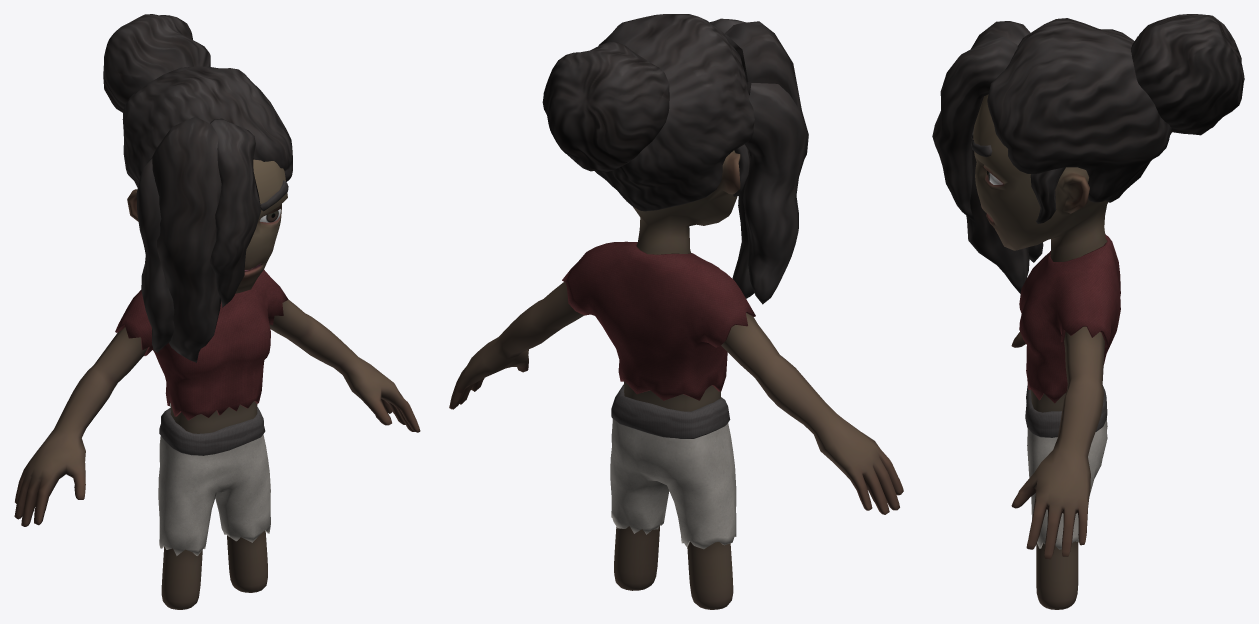
3 views of the same model, side by side, from view 1: azimuth 30°, elevation 25°; view 2: azimuth 150°, elevation 25°; view 3: azimuth 270°, elevation 25° (orthographic). The views are drawn at different scales.
Parts seen in each view (by area): view 1: GN3; view 2: GN3; view 3: GN3.
Part boxes in pixels (x1=…): GN3: x1=14, y1=14, x2=420, y2=609; GN3: x1=449, y1=14, x2=903, y2=609; GN3: x1=932, y1=14, x2=1244, y2=609.
Size of the model in its own units: 111 by 143 by 71.1.
1 material, 1 textured.
